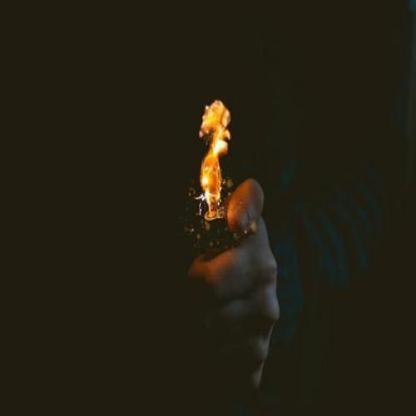fire: (198, 98, 228, 207)
